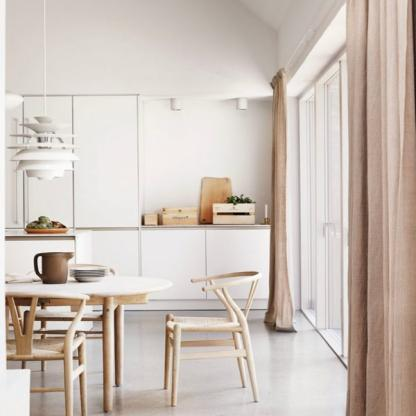chair: (156, 269, 269, 416), (5, 290, 90, 416)
door: (317, 84, 349, 339)
light: (12, 0, 82, 196)
table: (0, 263, 182, 416)
